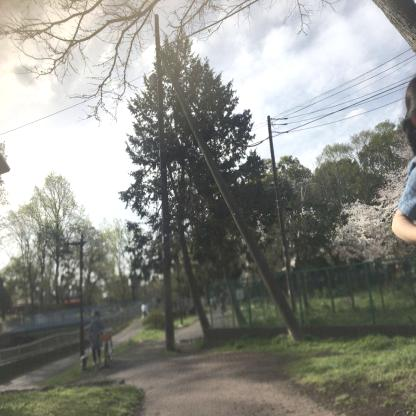Someiyoshino: (330, 146, 416, 269)
